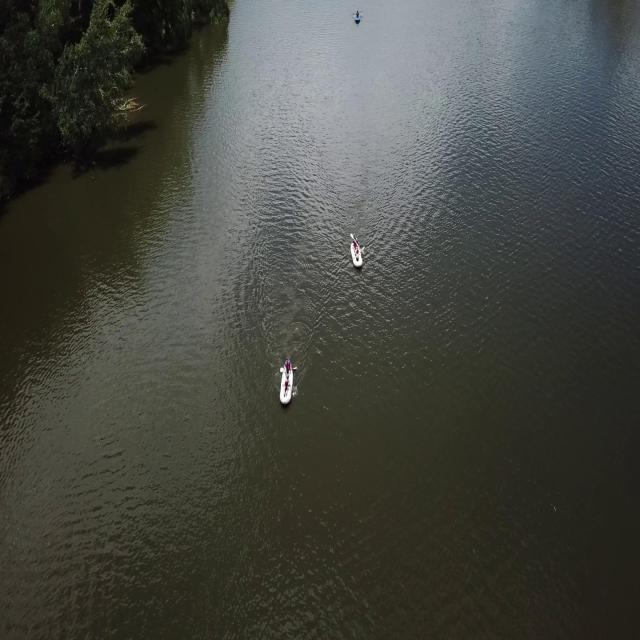kayak: (277, 357, 297, 408), (348, 231, 366, 271), (352, 8, 362, 25)
